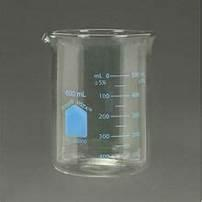Beaker: (35, 20, 161, 175)
